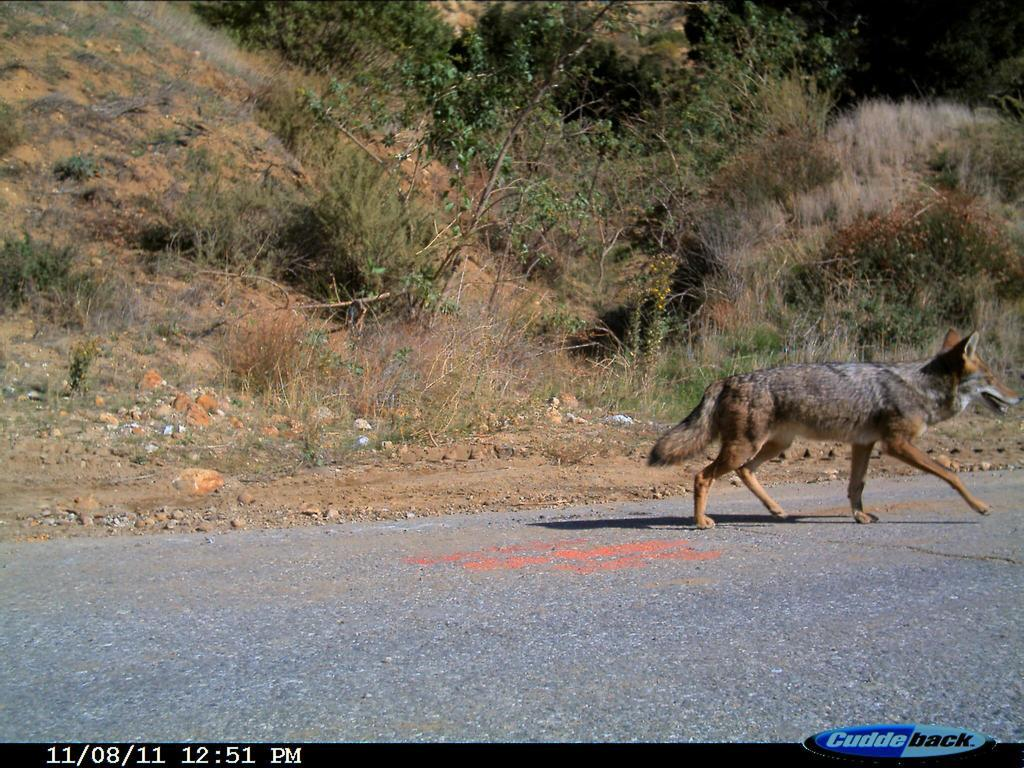coyote: (655, 313, 1023, 548)
